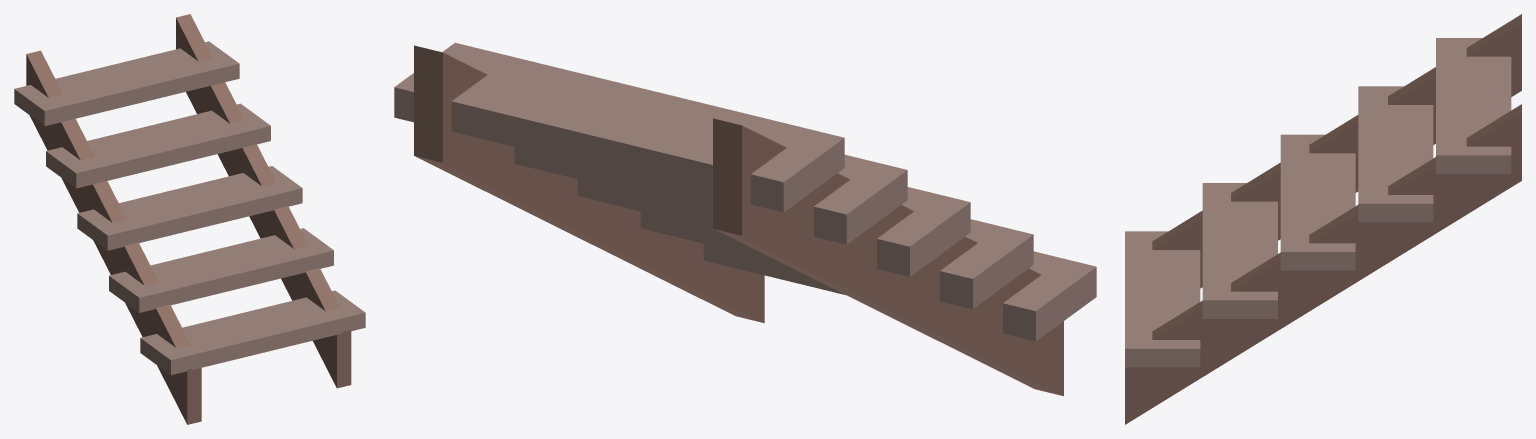
Rendered from prop_077.fbx.
3 renders of one model, left to right at view 1: azimuth 30°, elevation 25°; view 2: azimuth 150°, elevation 25°; view 3: azimuth 270°, elevation 25°, orthographic. The views are drawn at different scales.
Visible parts, largest first — view 1: prop.077; view 2: prop.077; view 3: prop.077.
Boxes of the visible parts, left/top/right/bottom form: prop.077: left=14, top=14, right=365, bottom=424; prop.077: left=394, top=42, right=1096, bottom=396; prop.077: left=1125, top=14, right=1521, bottom=424.
Size of the model in its own units: 191 by 237 by 273.
Materials: 1 (1 with a texture image).
